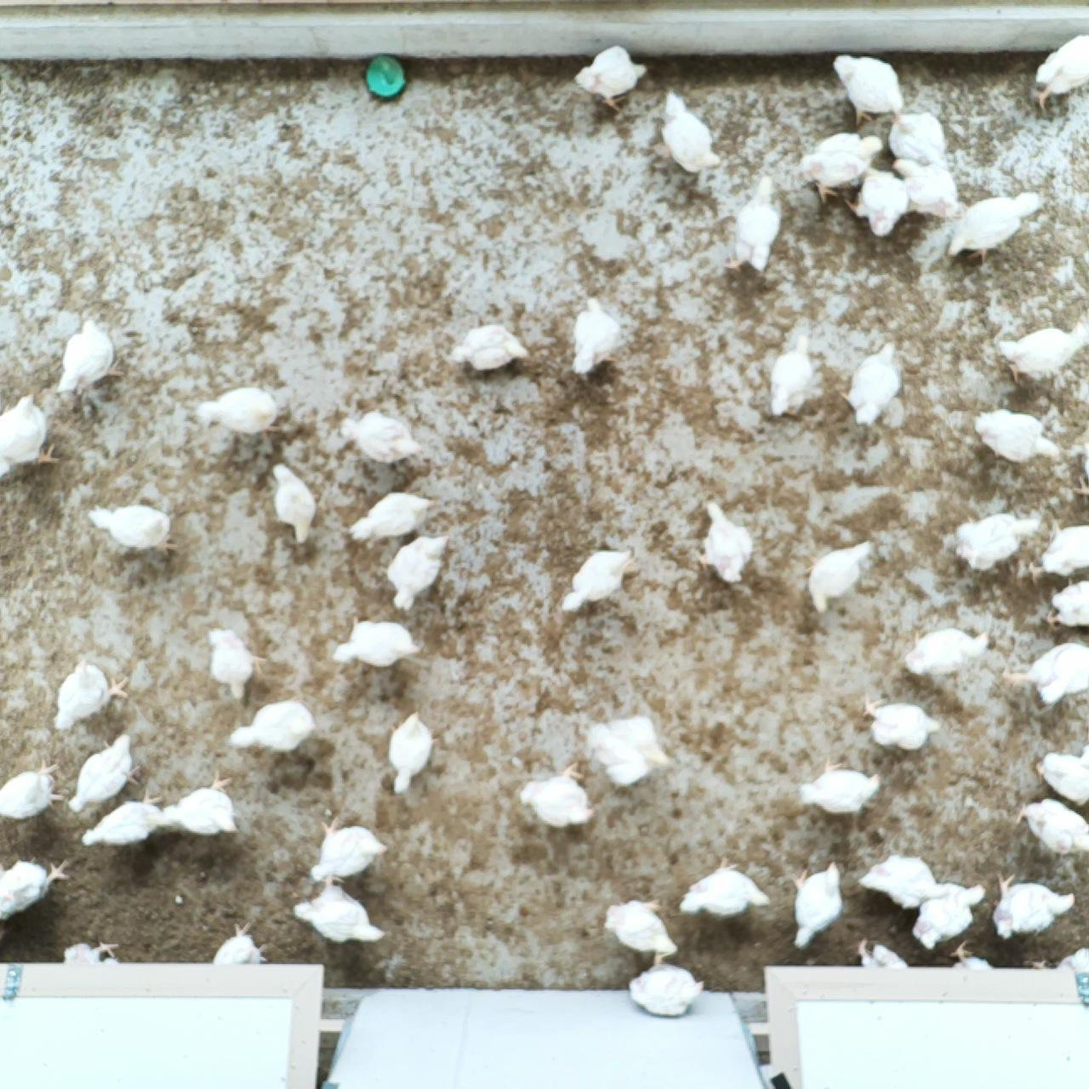chicken: (946, 186, 1050, 262), (995, 313, 1089, 393), (293, 873, 387, 948), (587, 711, 673, 792), (724, 171, 788, 274), (67, 725, 141, 814), (553, 543, 640, 618), (617, 945, 703, 1020), (381, 529, 455, 615), (52, 654, 132, 733), (797, 126, 882, 200), (676, 854, 772, 919), (863, 851, 961, 914), (900, 619, 995, 683), (991, 873, 1079, 939), (50, 312, 118, 397), (225, 695, 321, 755), (840, 339, 903, 430), (951, 509, 1041, 572), (692, 502, 757, 589), (655, 90, 721, 174), (157, 771, 239, 838), (797, 758, 887, 819), (80, 787, 168, 849), (306, 813, 391, 877), (383, 711, 444, 800), (829, 51, 901, 125), (911, 882, 988, 951), (348, 486, 435, 547), (804, 538, 872, 616), (599, 890, 679, 956), (205, 623, 270, 704), (1025, 30, 1089, 112), (1012, 636, 1089, 704), (261, 458, 319, 548), (519, 763, 599, 828), (969, 406, 1056, 465), (574, 44, 650, 110), (789, 859, 845, 948), (764, 336, 824, 419), (336, 409, 428, 463), (333, 612, 419, 669), (0, 392, 60, 473), (0, 852, 70, 920), (191, 385, 282, 437), (568, 288, 621, 377), (891, 153, 964, 217), (861, 697, 944, 752), (445, 321, 537, 370), (83, 500, 173, 550), (1018, 798, 1089, 861), (0, 755, 63, 818), (886, 106, 950, 168), (849, 172, 907, 237), (1032, 941, 1089, 1006), (1036, 741, 1089, 808), (206, 920, 270, 970), (1038, 519, 1089, 575), (1047, 572, 1089, 632), (854, 937, 909, 974), (60, 936, 125, 964), (948, 940, 989, 975)
